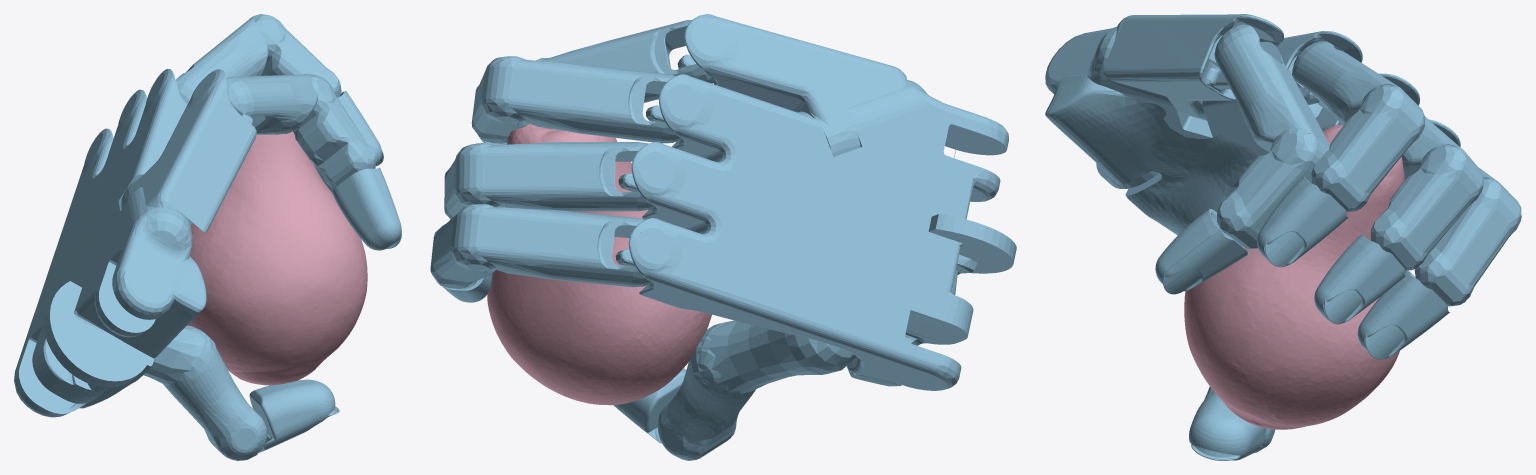
3 views of the same model, side by side, from view 1: azimuth 30°, elevation 25°; view 2: azimuth 150°, elevation 25°; view 3: azimuth 270°, elevation 25° (orthographic). The views are drawn at different scales.
Parts seen in each view (by area): view 1: world; view 2: world; view 3: world.
Part boxes in pixels (box(x1,y1,x2,y2)): world: box(14, 14, 401, 460); world: box(430, 14, 1016, 460); world: box(1045, 14, 1521, 460).
Bounding box in the file's own units: 0.1516 × 0.1411 × 0.1419.
